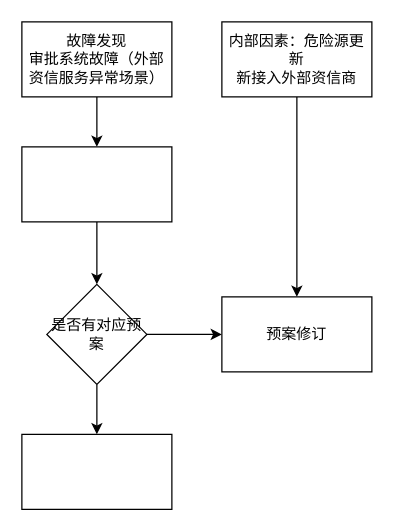
Some shapes in this 394 by 531 pixel diagram are drawn without their labels. Each missing label, with the centre of its shape:
"执行预案 依据《外部资信突发异常操作指引》" goes at point (96, 471).
"自动巡检 判断故障节点" goes at point (96, 184).
